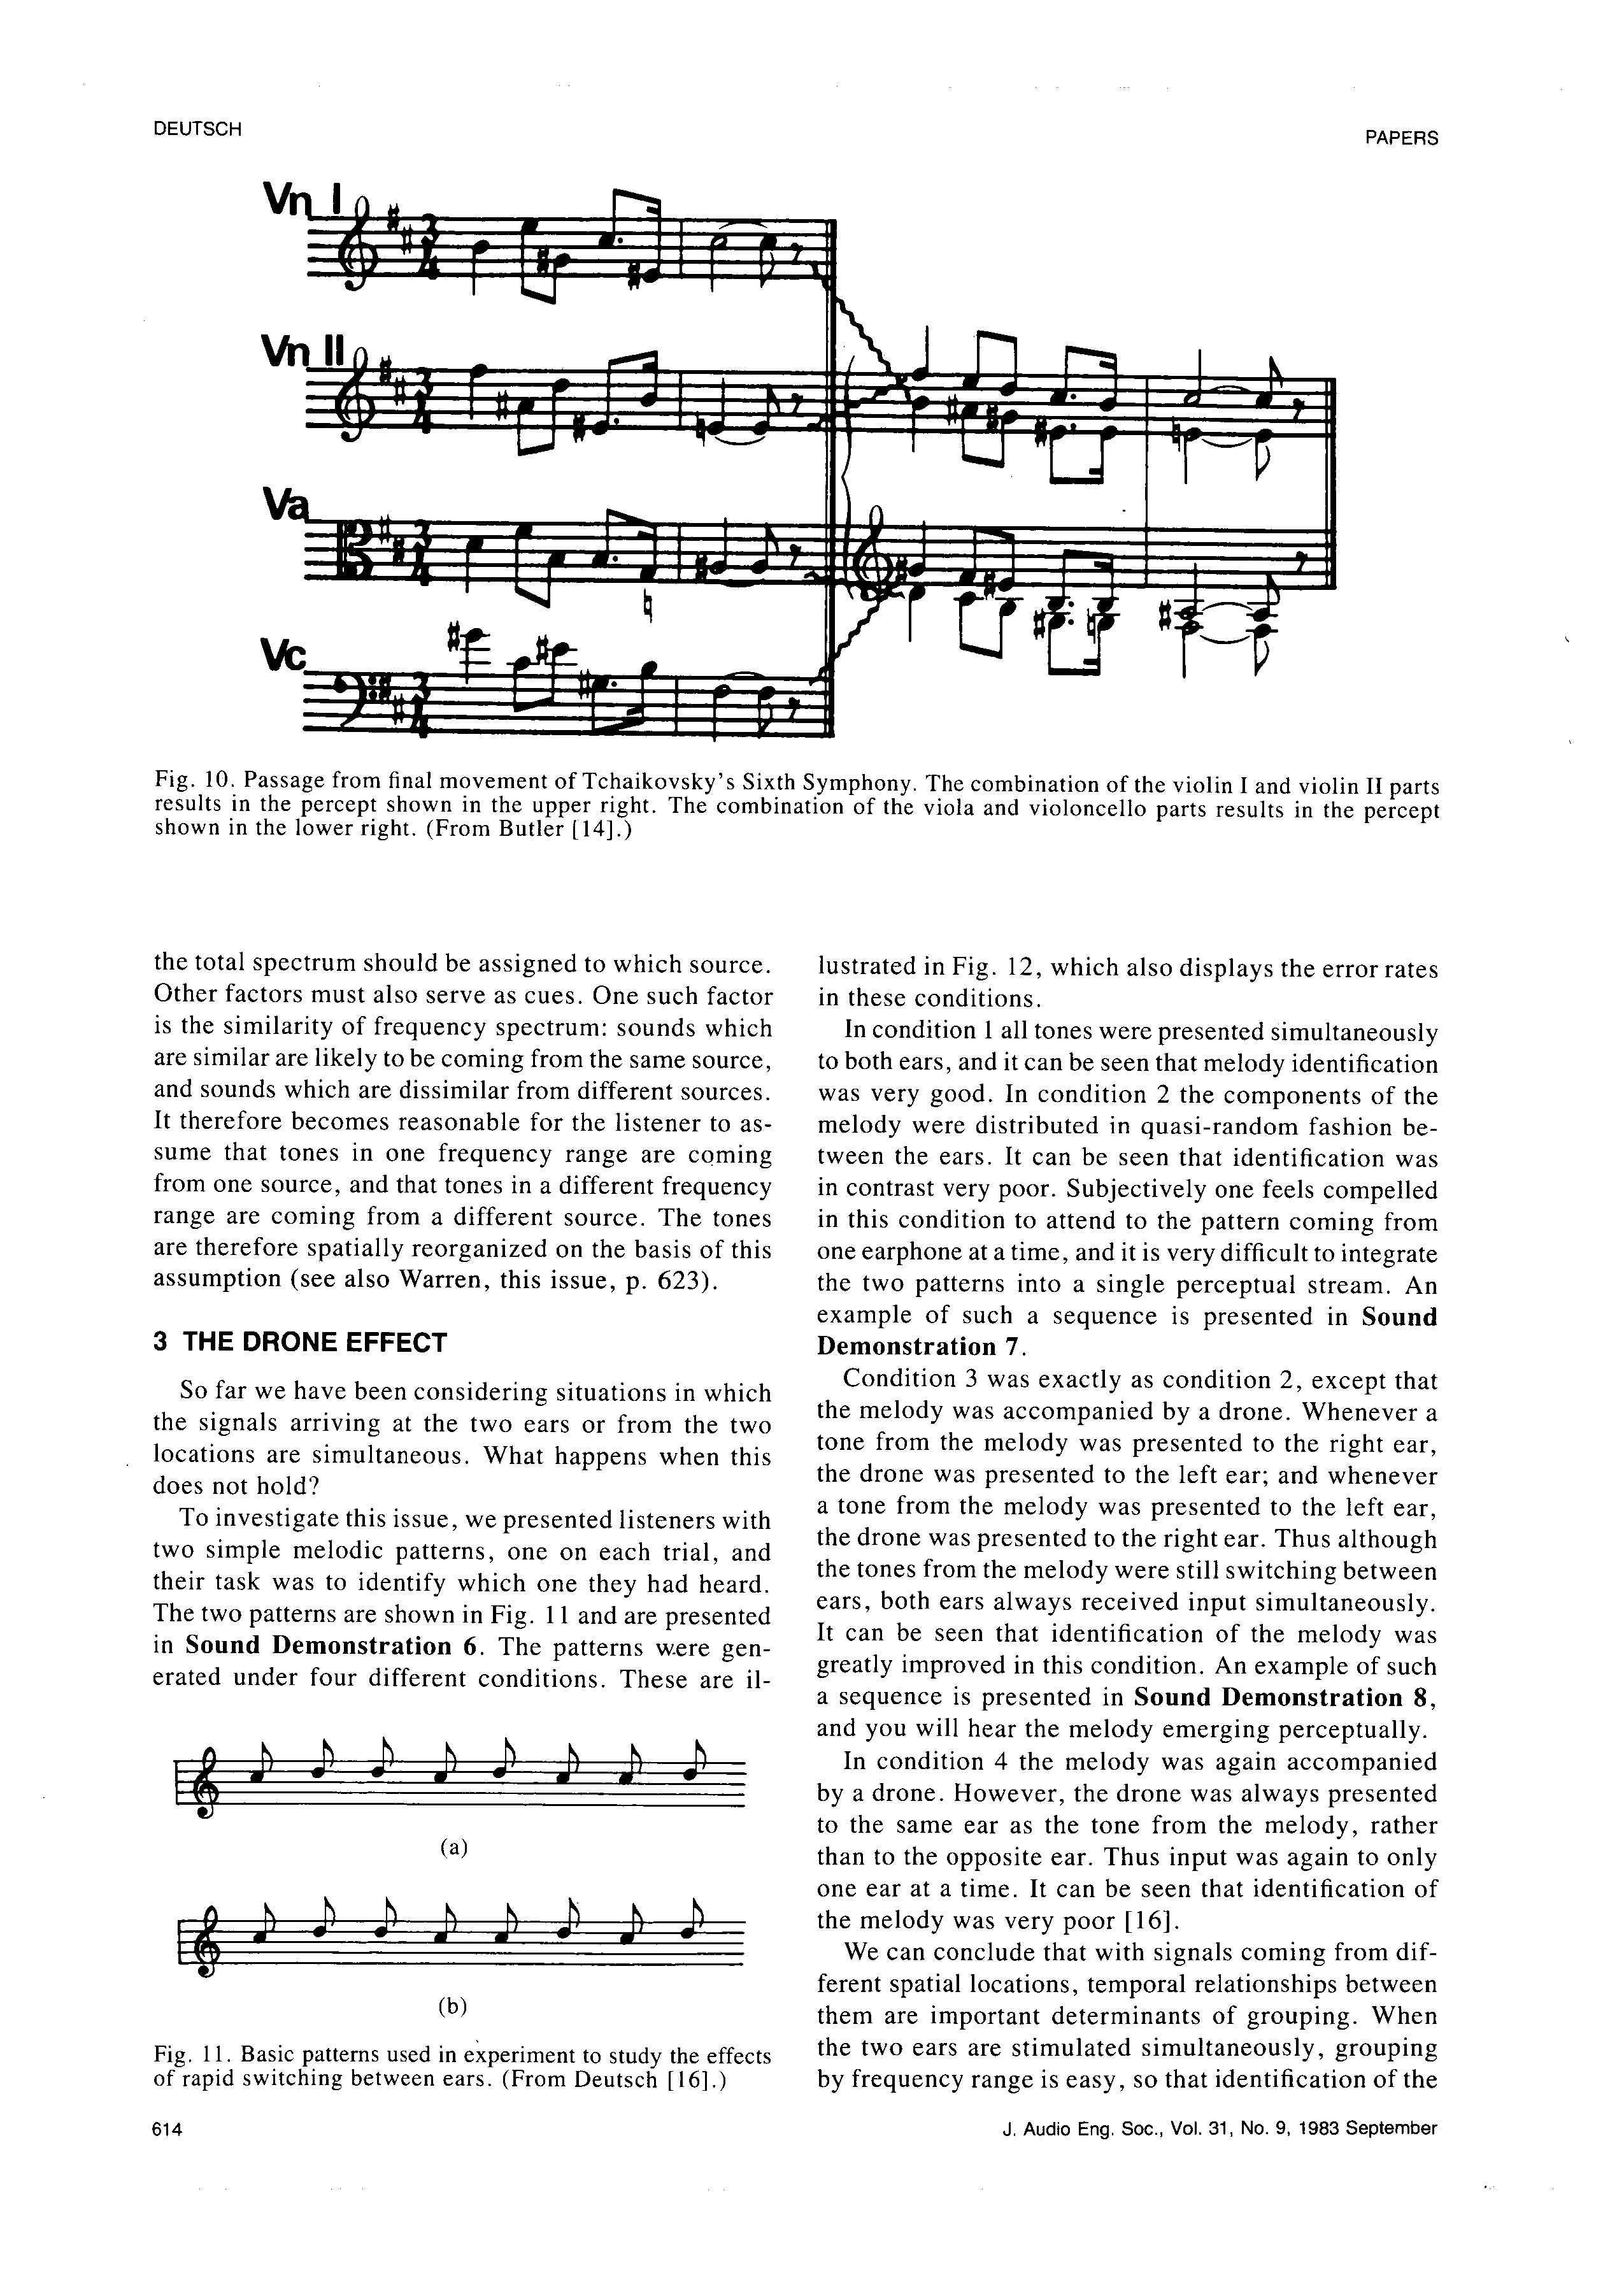caption: (142, 765, 1446, 847), (139, 2034, 772, 2106)
figure: (181, 167, 1394, 772), (153, 1728, 758, 2034)
section: (149, 1317, 462, 1369)
text: (807, 1380, 1432, 1740), (807, 1021, 1441, 1369), (149, 949, 761, 1296), (810, 1014, 1418, 1327), (821, 1747, 1439, 1942), (139, 1529, 768, 1710), (810, 1942, 1441, 2102), (149, 1383, 768, 1512), (817, 935, 1434, 1007)
